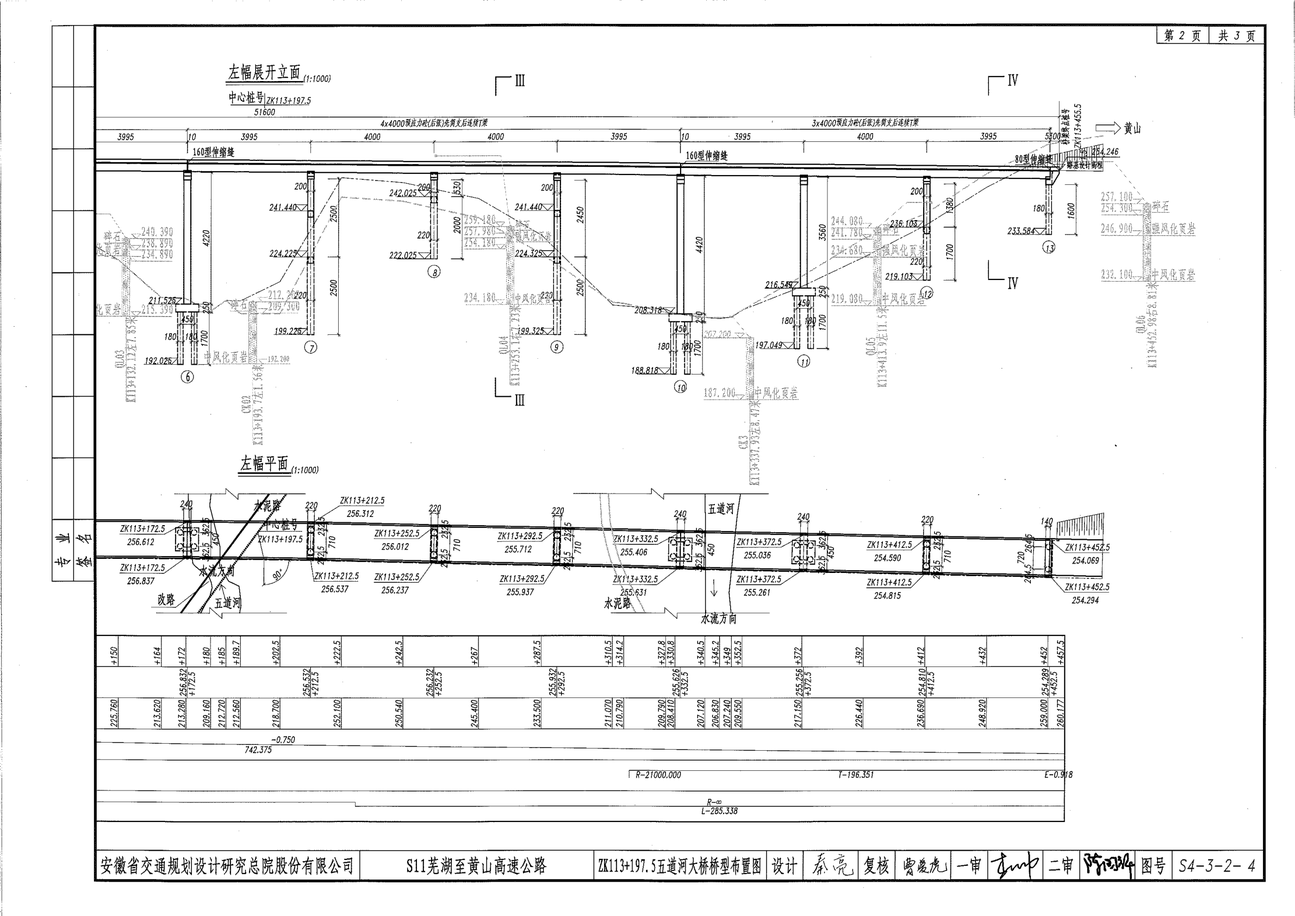A: (80, 44, 1142, 410)
